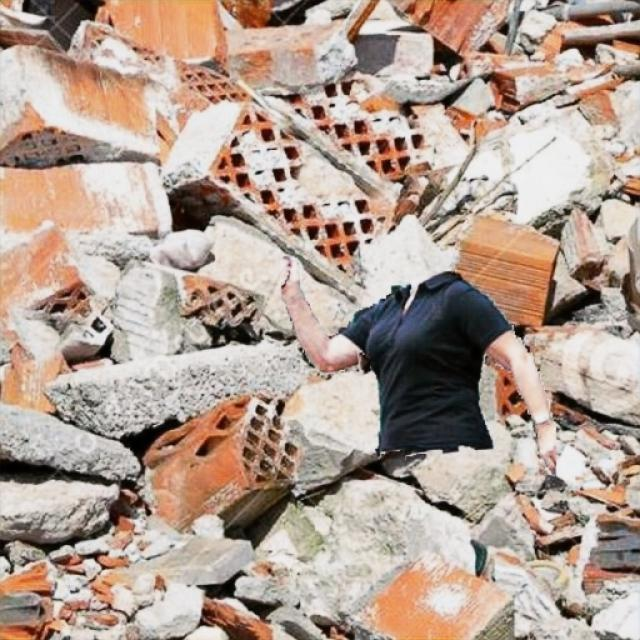Person in Rubble: (281, 255, 555, 475)
